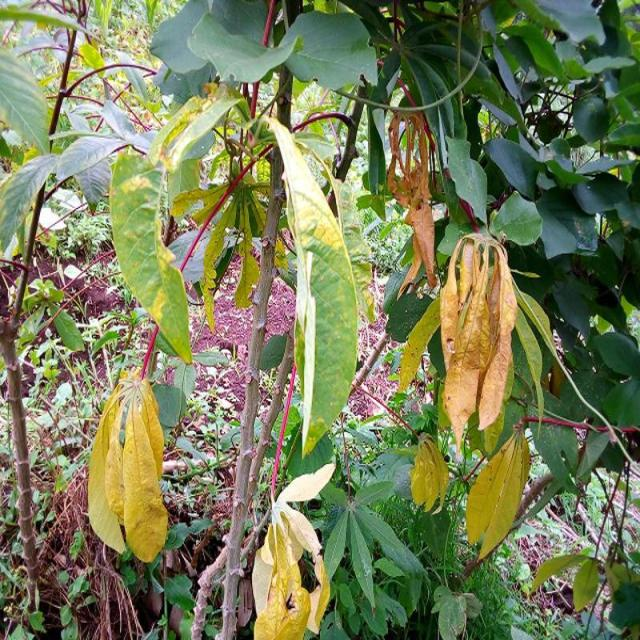cassava leaf: (266, 114, 359, 458), (108, 149, 193, 365), (438, 232, 518, 456), (86, 374, 168, 564)
